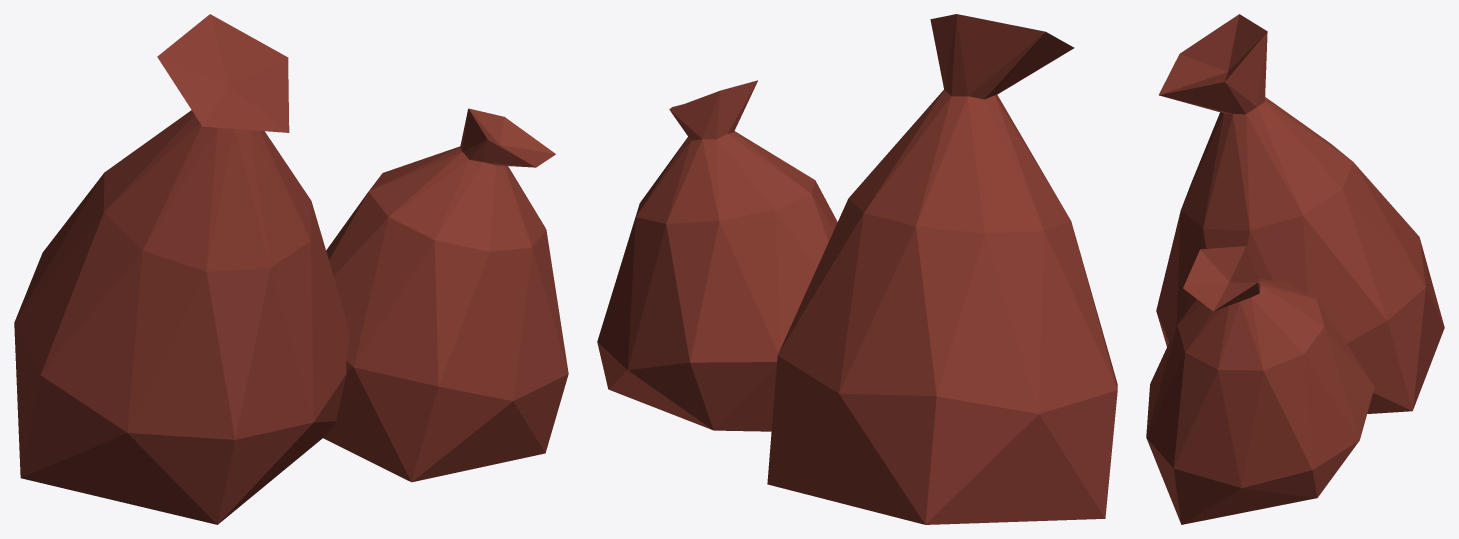
The model's file is Trashbags.fbx.
The picture shows the model from 3 angles, left to right: view 1: azimuth 30°, elevation 25°; view 2: azimuth 150°, elevation 25°; view 3: azimuth 270°, elevation 25°; orthographic projection. The views are drawn at different scales.
Parts seen in each view (by area): view 1: Trashbags; view 2: Trashbags; view 3: Trashbags.
Part boxes in pixels (x1,y1,x2,y2): Trashbags: (14, 14, 568, 524); Trashbags: (597, 14, 1117, 524); Trashbags: (1146, 14, 1444, 524).
Bounding box in the file's own units: 78.75 × 71.27 × 50.53.
